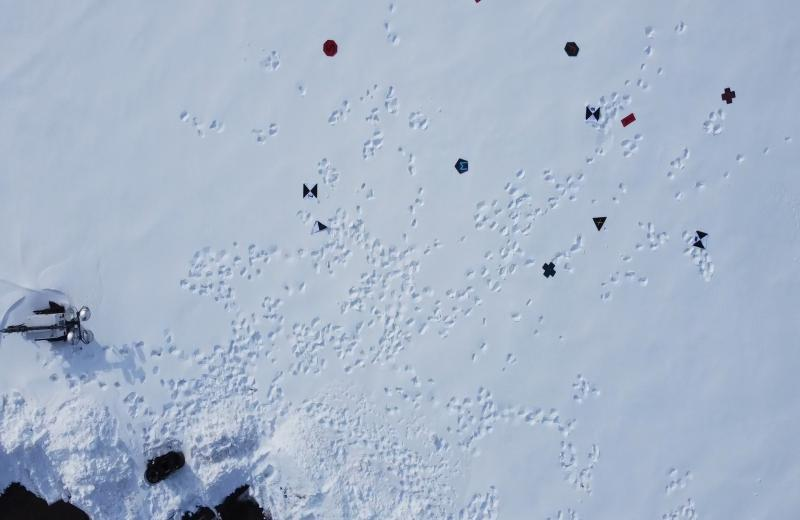Cross: (541, 260, 558, 279), (720, 87, 736, 105)
Hexagon: (564, 40, 580, 60)
Octagon: (320, 38, 338, 57)
Pentagon: (452, 156, 470, 177)
Rectangle: (620, 114, 637, 127)
Triangle: (592, 212, 608, 233)
